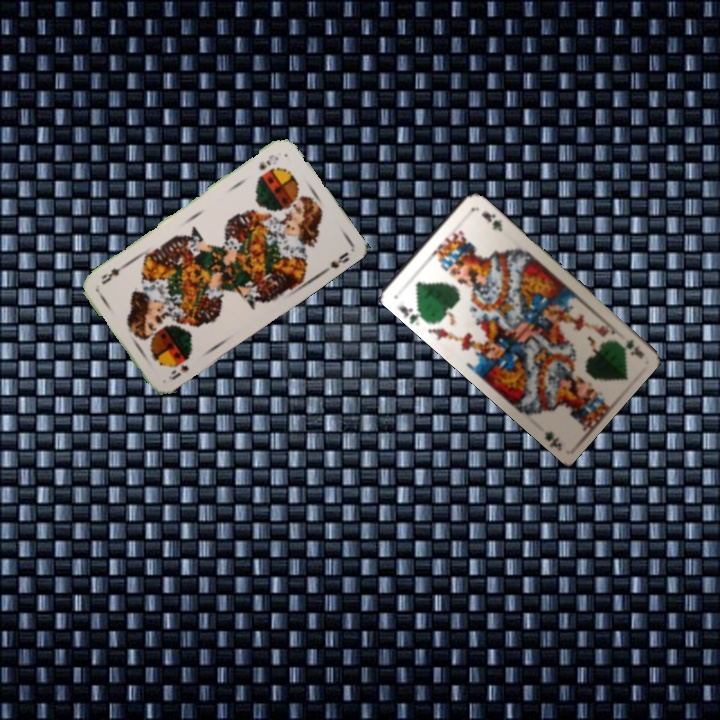GK: (394, 301, 427, 328), (621, 335, 646, 361)
SO: (166, 353, 193, 383), (254, 150, 281, 173)
